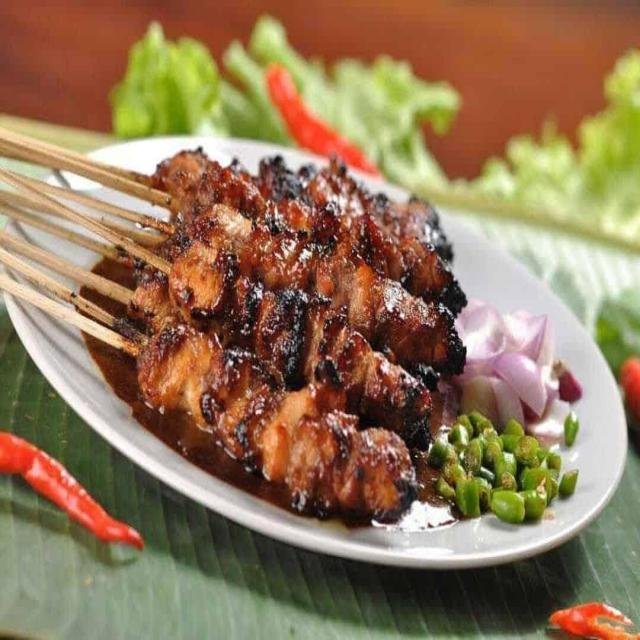Sate: (0, 91, 464, 577)
